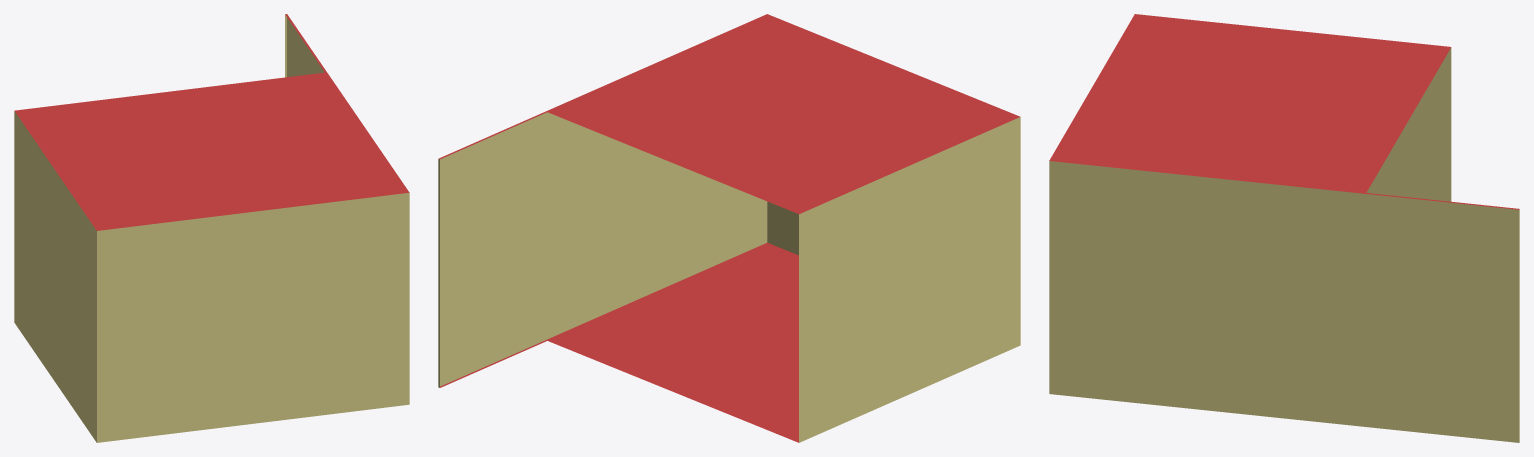
3 renders of one model, left to right at view 1: azimuth 30°, elevation 25°; view 2: azimuth 150°, elevation 25°; view 3: azimuth 270°, elevation 25°, orthographic. The views are drawn at different scales.
Bounding box in the file's own units: 9.41 × 9.55 × 5.22.
